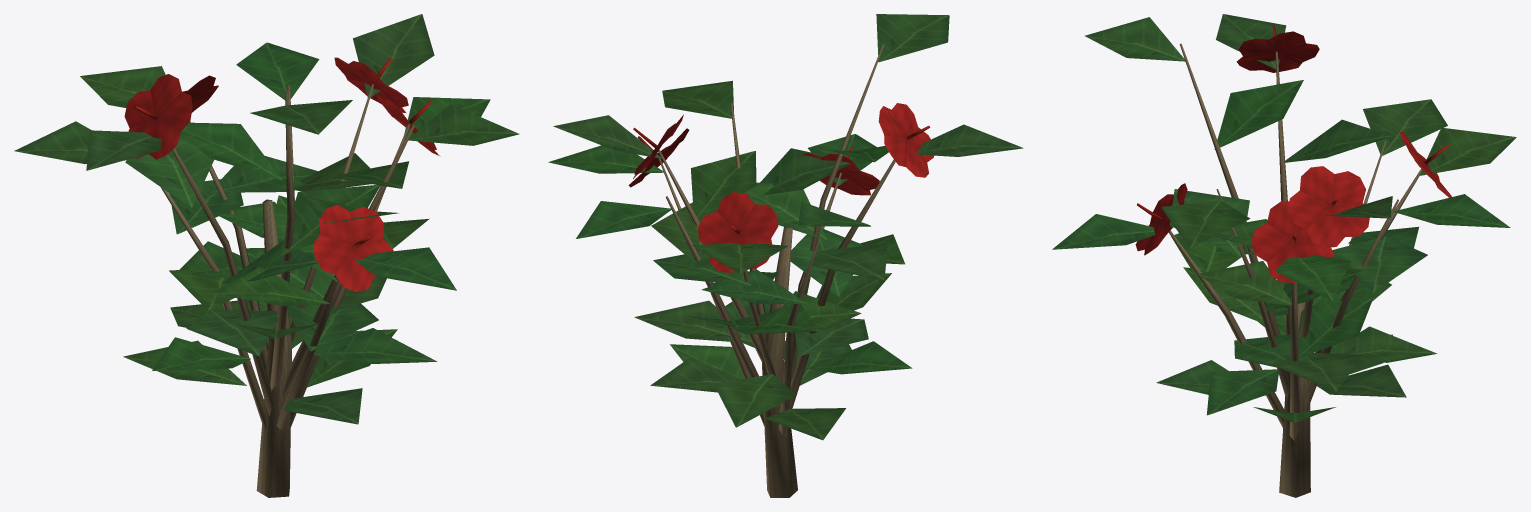
Rendered from Hibiscus_Chemparathi.glb.
3 renders of one model, left to right at view 1: azimuth 30°, elevation 25°; view 2: azimuth 150°, elevation 25°; view 3: azimuth 270°, elevation 25°, orthographic. The views are drawn at different scales.
Parts seen in each view (by area): view 1: Hibiscus_Chemparathi; view 2: Hibiscus_Chemparathi; view 3: Hibiscus_Chemparathi.
Boxes of the visible parts, bbox=[...] form: Hibiscus_Chemparathi: bbox=[14, 14, 519, 497]; Hibiscus_Chemparathi: bbox=[548, 14, 1023, 497]; Hibiscus_Chemparathi: bbox=[1052, 14, 1516, 497].
Bounding box in the file's own units: 1.47 × 1.4 × 1.38.
1 material, 1 textured.
